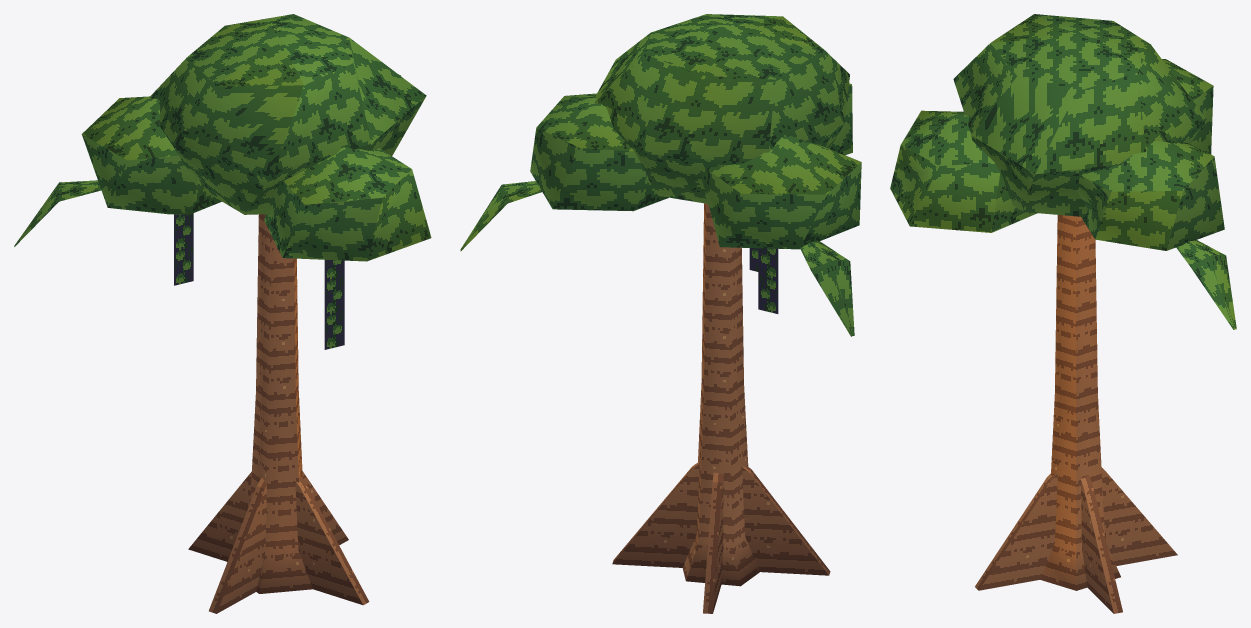
The model's file is wild.tree.glb.
The picture shows the model from 3 angles, left to right: view 1: azimuth 30°, elevation 25°; view 2: azimuth 150°, elevation 25°; view 3: azimuth 270°, elevation 25°; orthographic projection.
Parts seen in each view (by area): view 1: kit_canopy, kit_trunk, kit_buttresses, kit_shell_vines, kit_shell_rim_leaves; view 2: kit_canopy, kit_trunk, kit_buttresses, kit_shell_rim_leaves, kit_shell_vines; view 3: kit_canopy, kit_trunk, kit_buttresses, kit_shell_rim_leaves.
Boxes of the visible parts, x1=… form: kit_canopy: x1=81, y1=14, x2=431, y2=261; kit_trunk: x1=250, y1=214, x2=312, y2=593; kit_buttresses: x1=188, y1=471, x2=369, y2=613; kit_shell_vines: x1=174, y1=213, x2=344, y2=349; kit_shell_rim_leaves: x1=14, y1=180, x2=101, y2=246; kit_canopy: x1=530, y1=14, x2=861, y2=249; kit_trunk: x1=682, y1=203, x2=759, y2=586; kit_buttresses: x1=612, y1=462, x2=830, y2=613; kit_shell_rim_leaves: x1=460, y1=181, x2=854, y2=336; kit_shell_vines: x1=749, y1=248, x2=778, y2=313; kit_canopy: x1=890, y1=14, x2=1224, y2=250; kit_trunk: x1=1040, y1=215, x2=1120, y2=590; kit_buttresses: x1=975, y1=467, x2=1177, y2=613; kit_shell_rim_leaves: x1=1176, y1=240, x2=1236, y2=329.
Size of the model in its own units: 6.9 by 9.36 by 5.51.
3 materials, 3 textured.
